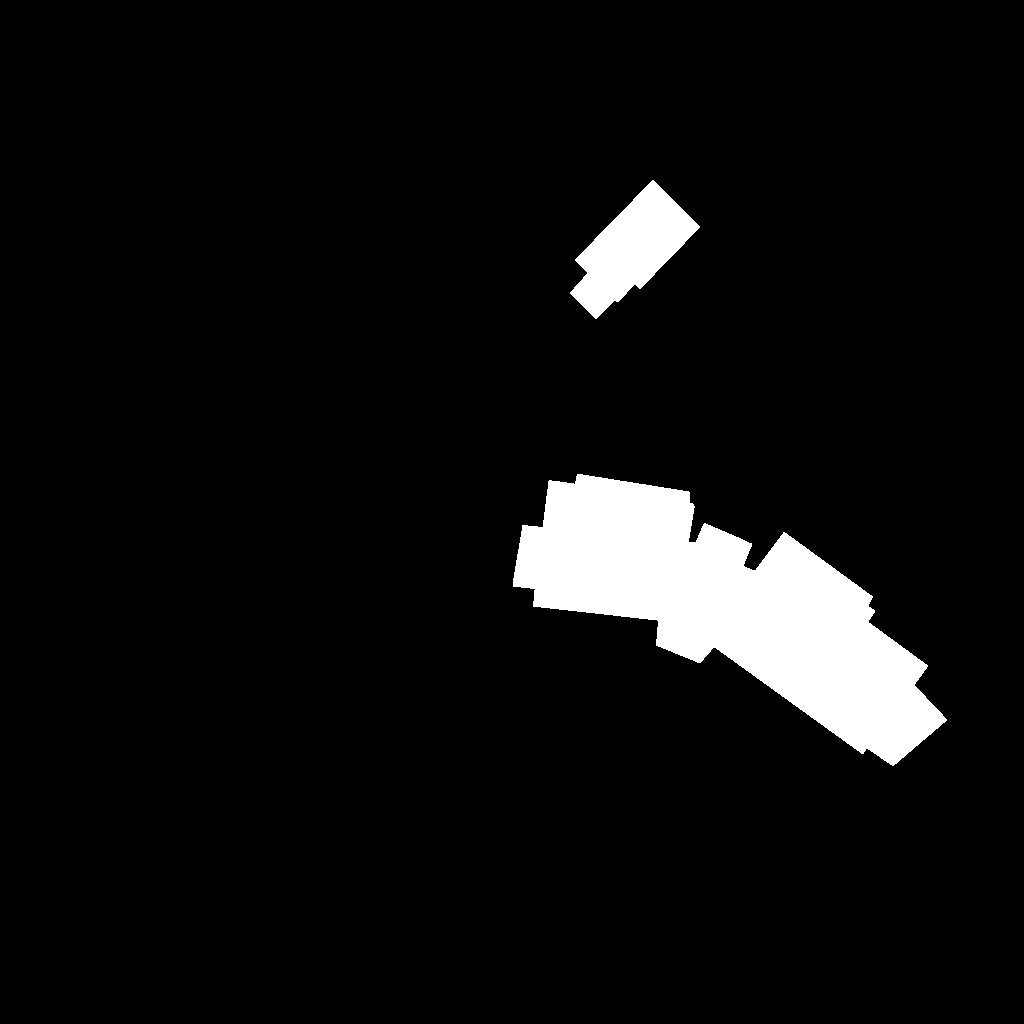building: (513, 474, 948, 767), (570, 180, 701, 320)
